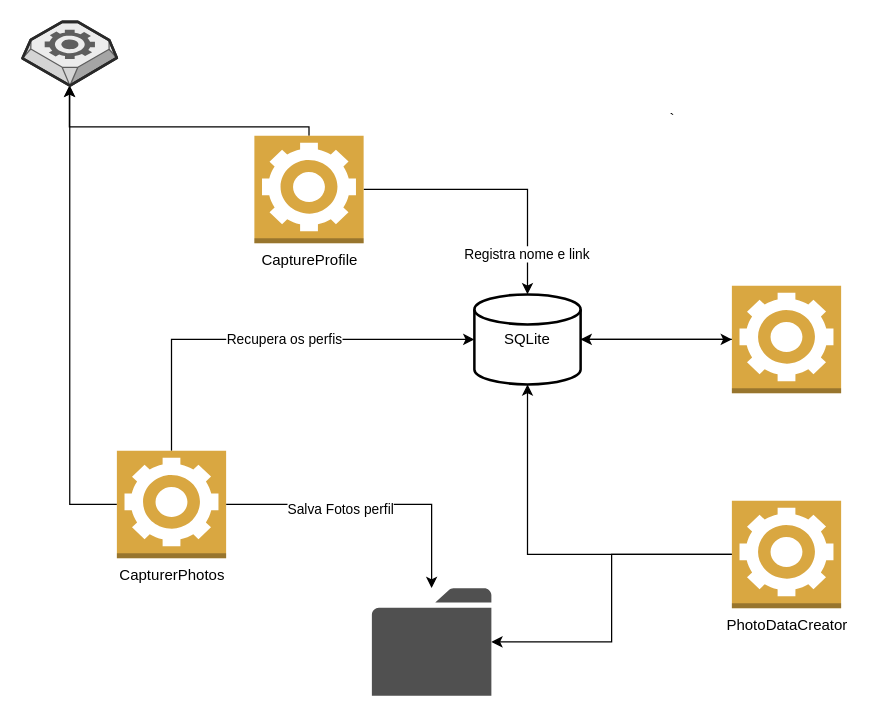
The diagram is 869 pixels wide and 718 high, and some of its shapes have lost their labels. Here are the shapes that lost their labels. From the top down, the box of each, then its label:
(21, 21, 117, 86): Selenium
(731, 284, 841, 393): Profiler
